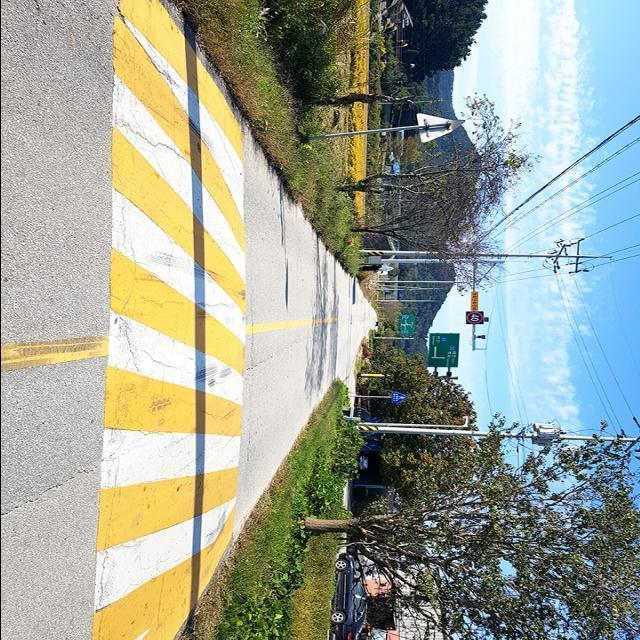speedbreaker: (84, 0, 254, 640)
